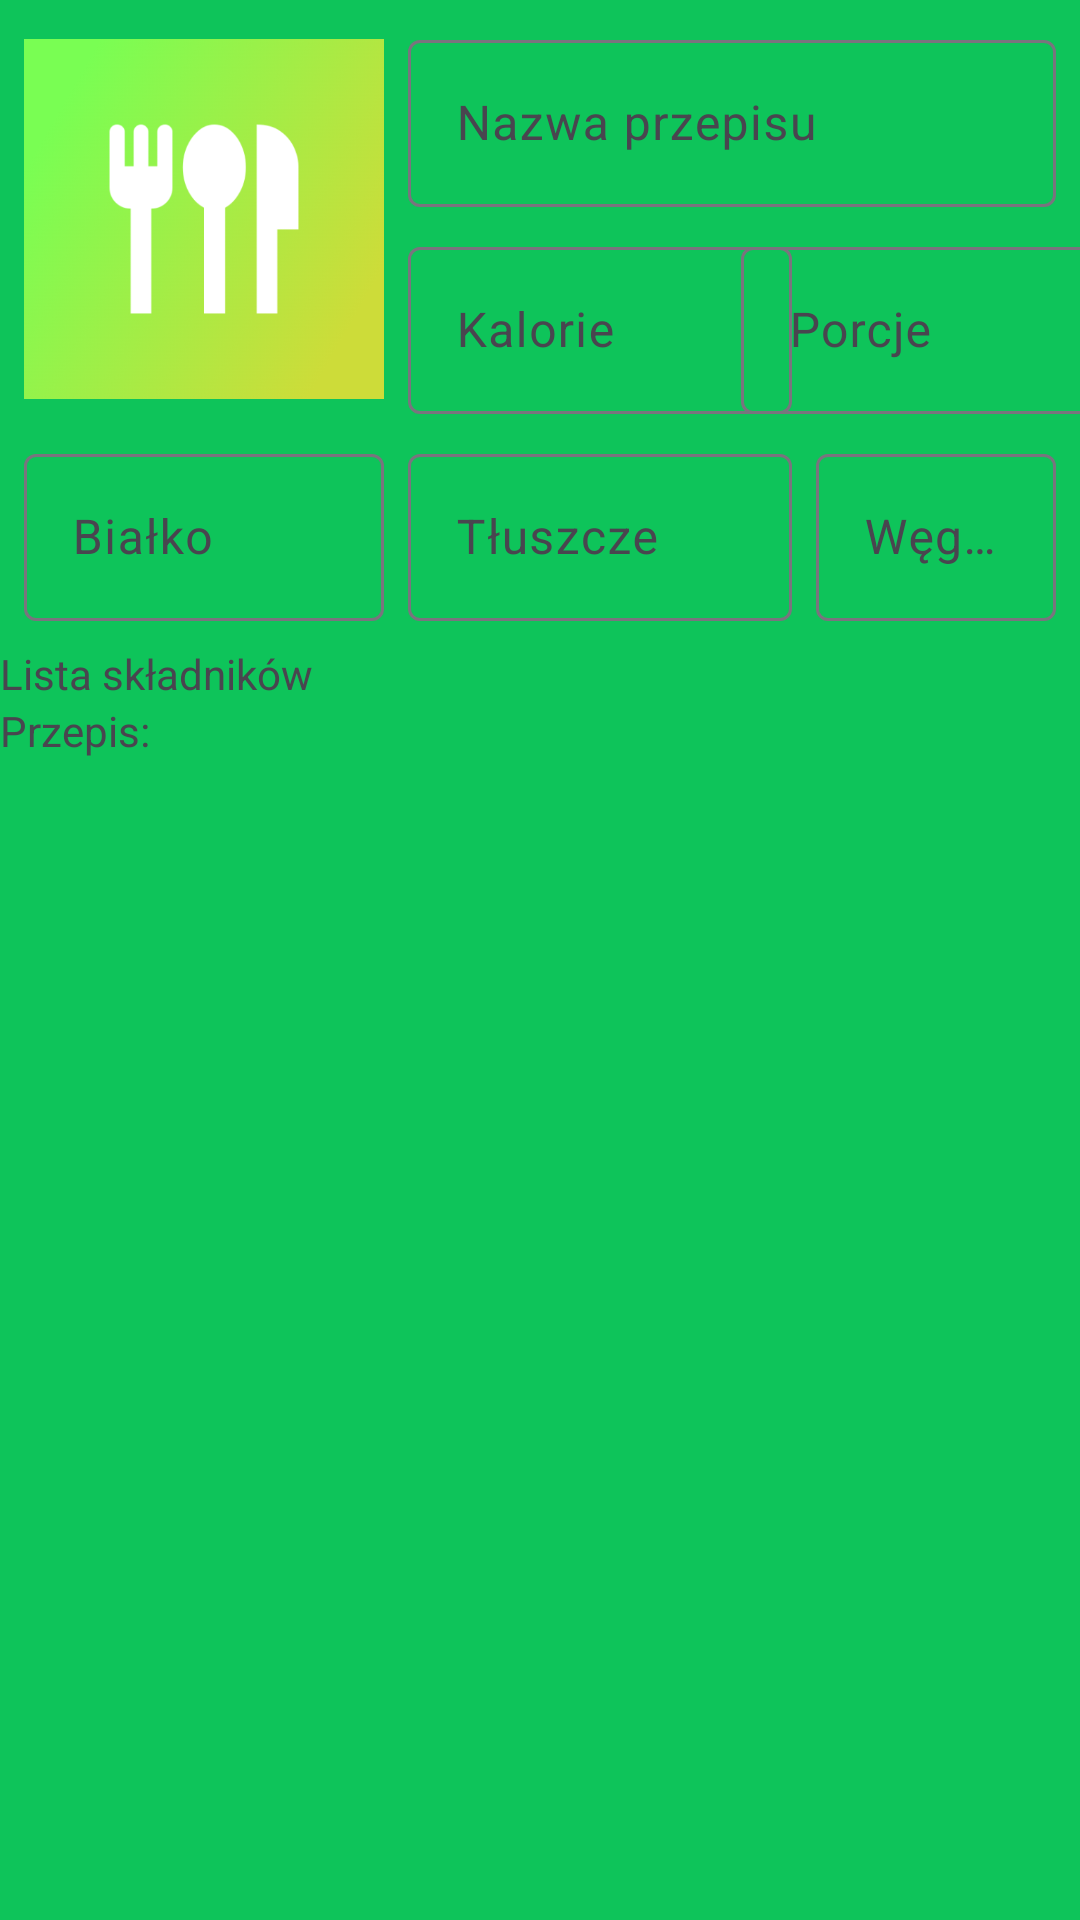

Locate icon controls on the screen. Image size 1080*1920, boxes as [x1=x1, y1=y1, x2=x2, y2=y2].
sztucce: [x1=24, y1=39, x2=384, y2=399]
